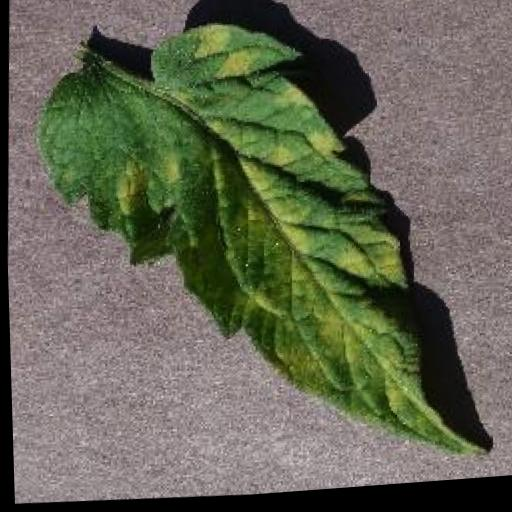Leaf Mold: (28, 5, 502, 489)
